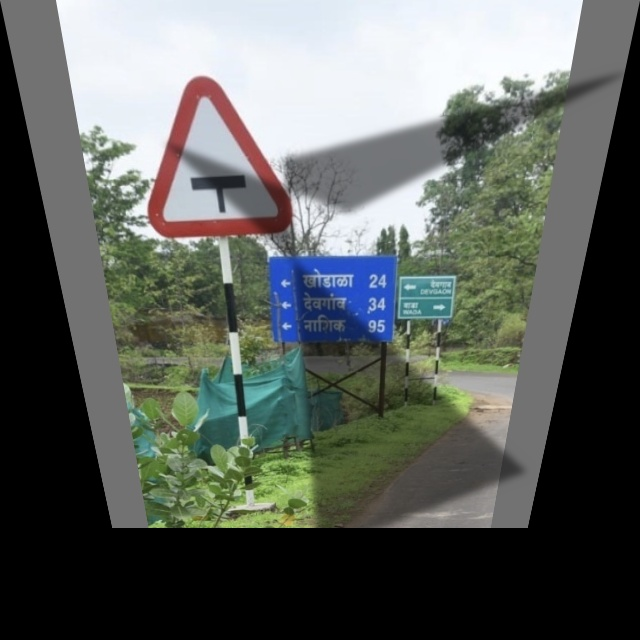T_Intersection: (130, 82, 297, 233)
